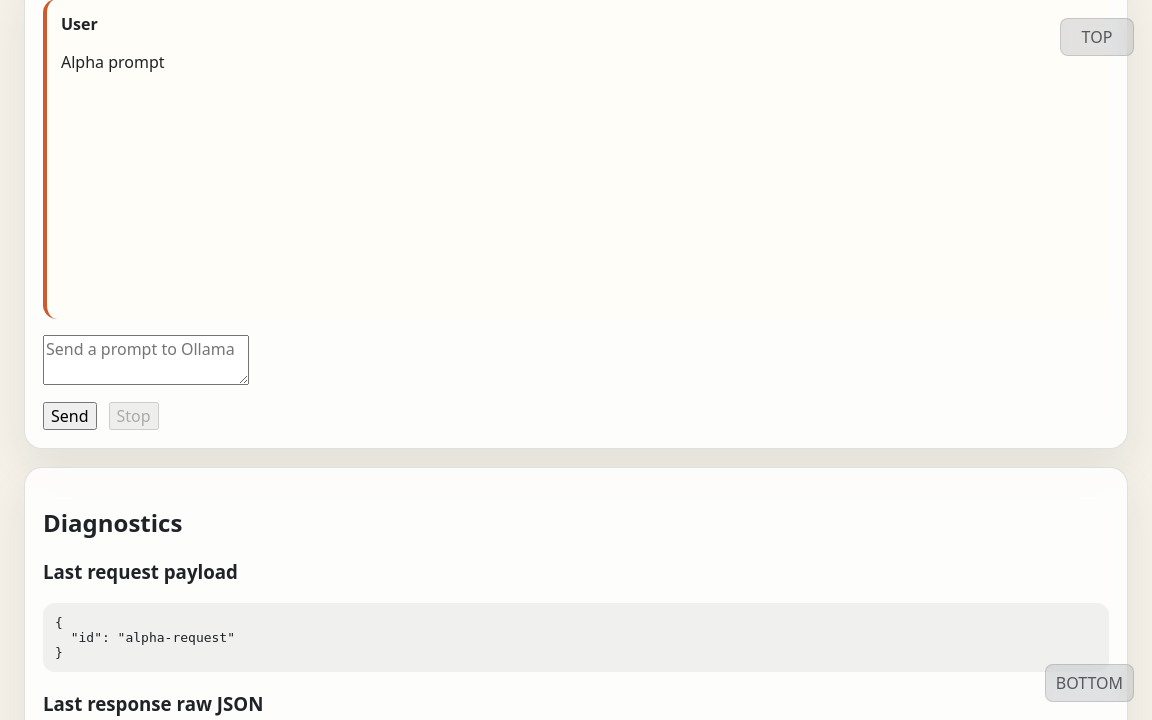
App › renders the submitted prompt immediately while the request is pending
(page scrolled)
Type "Optimistic prompt" into the text box labelled "prompt". click: (146, 360)
box: [43, 335, 249, 385]
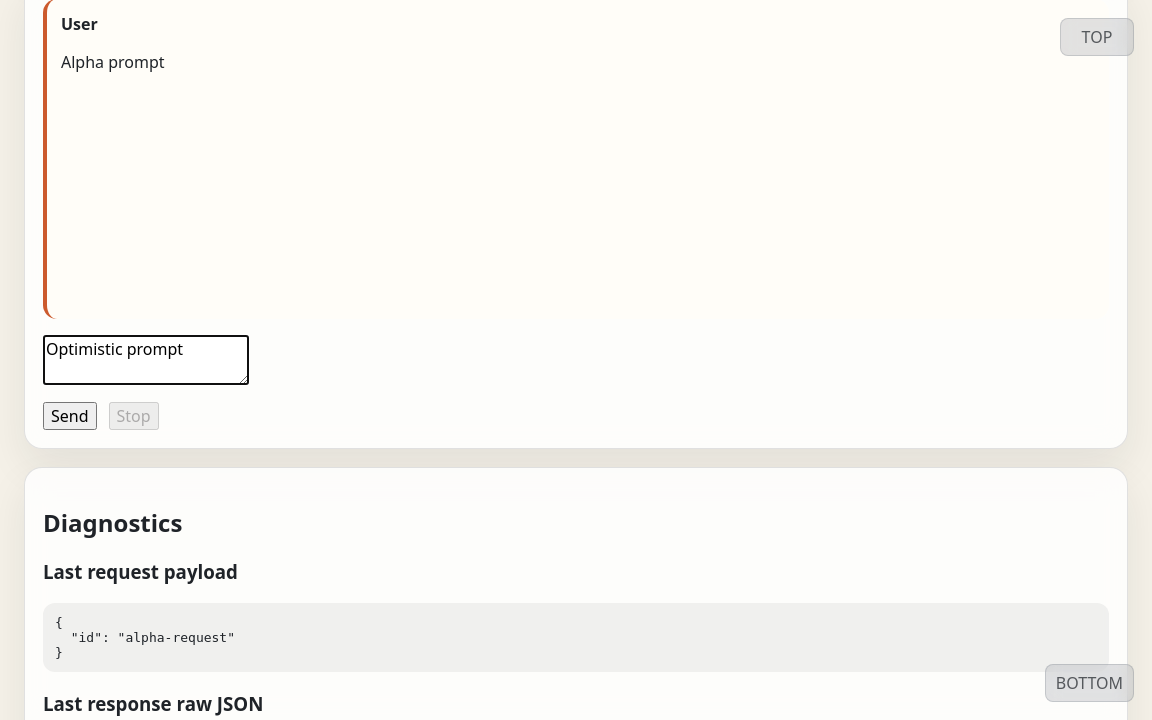
Click the button "Send". click: (70, 416)
box: [43, 402, 96, 430]
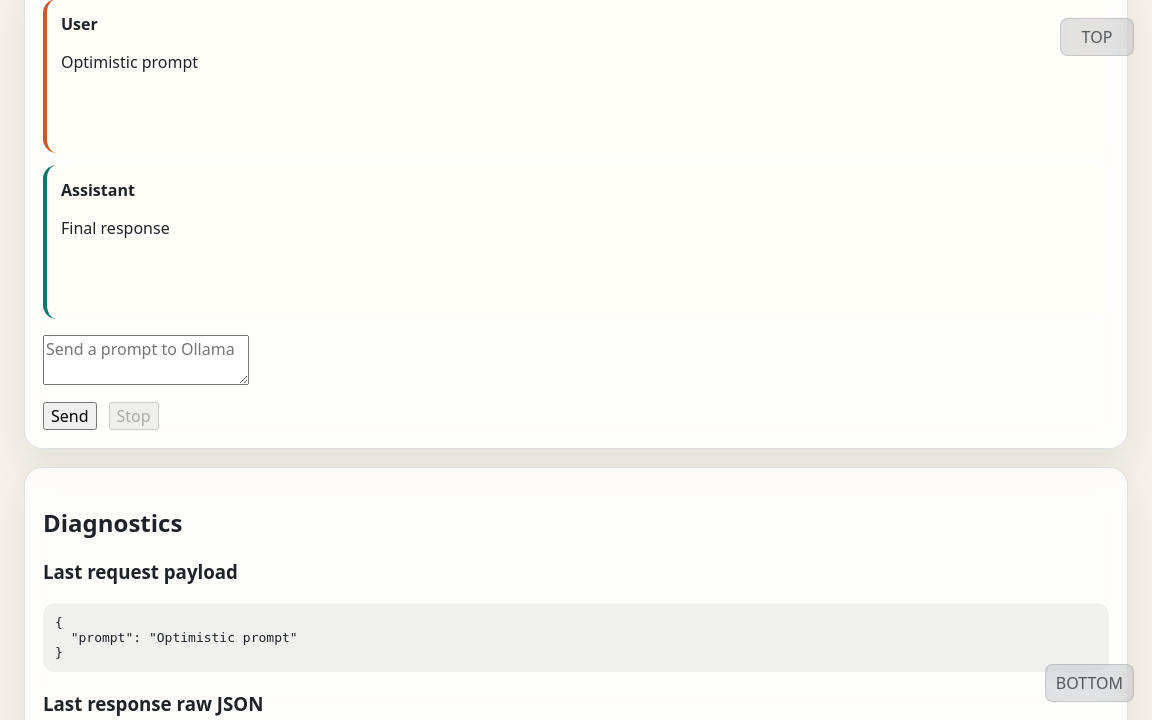
Now the text "Optimistic prompt" is shown, box [61, 51, 198, 73]
